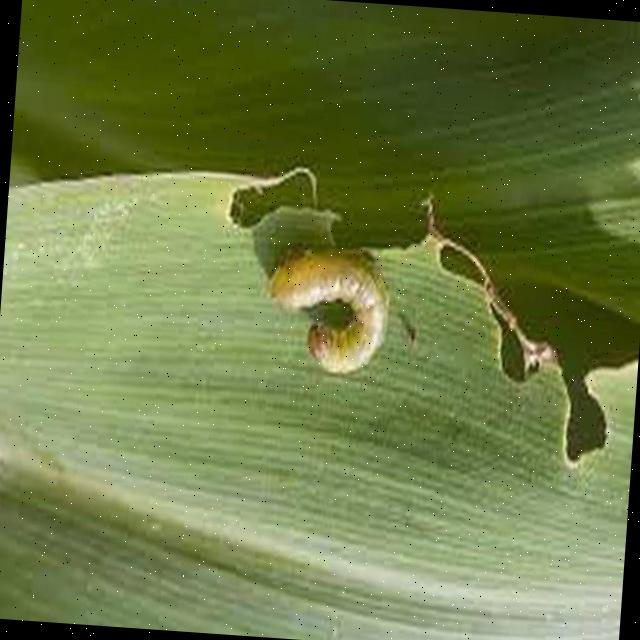worm: (262, 239, 397, 379)
